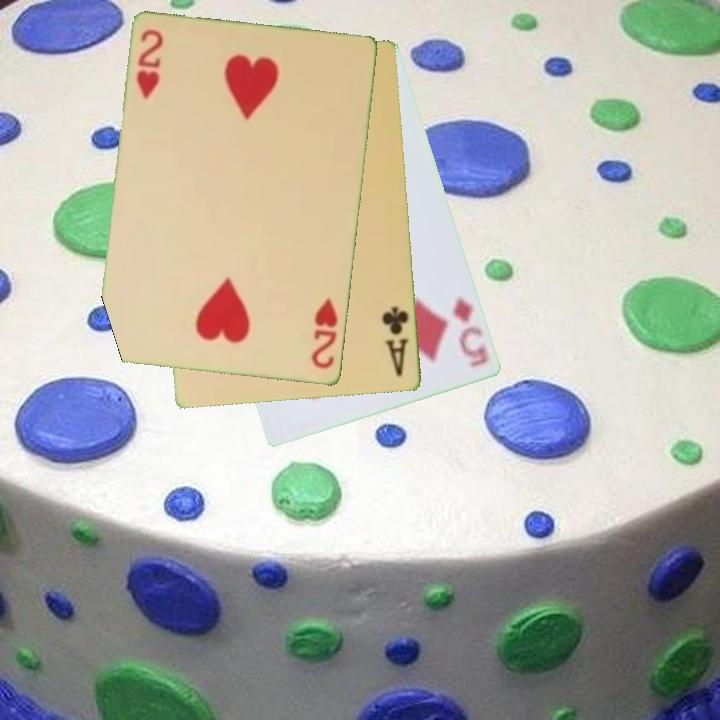2h: (133, 26, 167, 102), (308, 295, 341, 372)
5d: (449, 293, 493, 370)
Ac: (379, 303, 412, 380)
